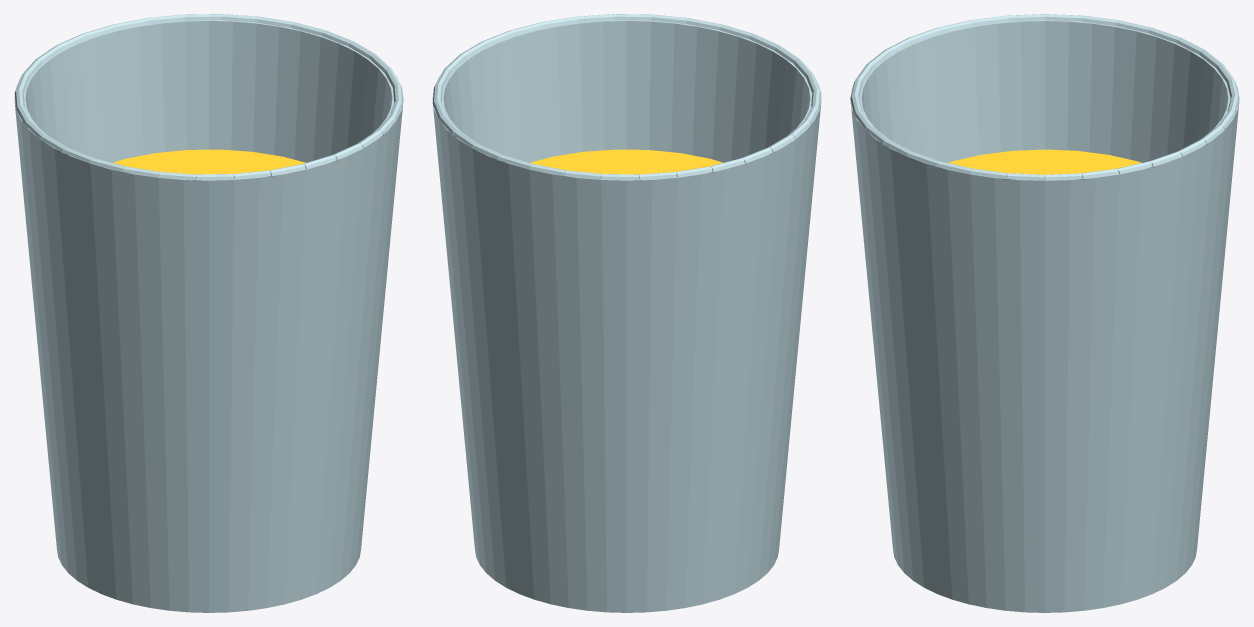
The model's file is drink_amber_resin.glb.
The picture shows the model from 3 angles, left to right: view 1: azimuth 30°, elevation 25°; view 2: azimuth 150°, elevation 25°; view 3: azimuth 270°, elevation 25°; orthographic projection.
Visible parts, largest first — view 1: clear_0001, liquid_0002; view 2: clear_0001, liquid_0002; view 3: clear_0001, liquid_0002.
Part boxes in pixels (x1=…): clear_0001: x1=14, y1=20, x2=403, y2=612; liquid_0002: x1=113, y1=149, x2=305, y2=174; clear_0001: x1=432, y1=20, x2=821, y2=612; liquid_0002: x1=530, y1=149, x2=722, y2=174; clear_0001: x1=850, y1=20, x2=1239, y2=612; liquid_0002: x1=948, y1=149, x2=1141, y2=174.
Bounding box in the file's own units: 0.174 × 0.224 × 0.174.
